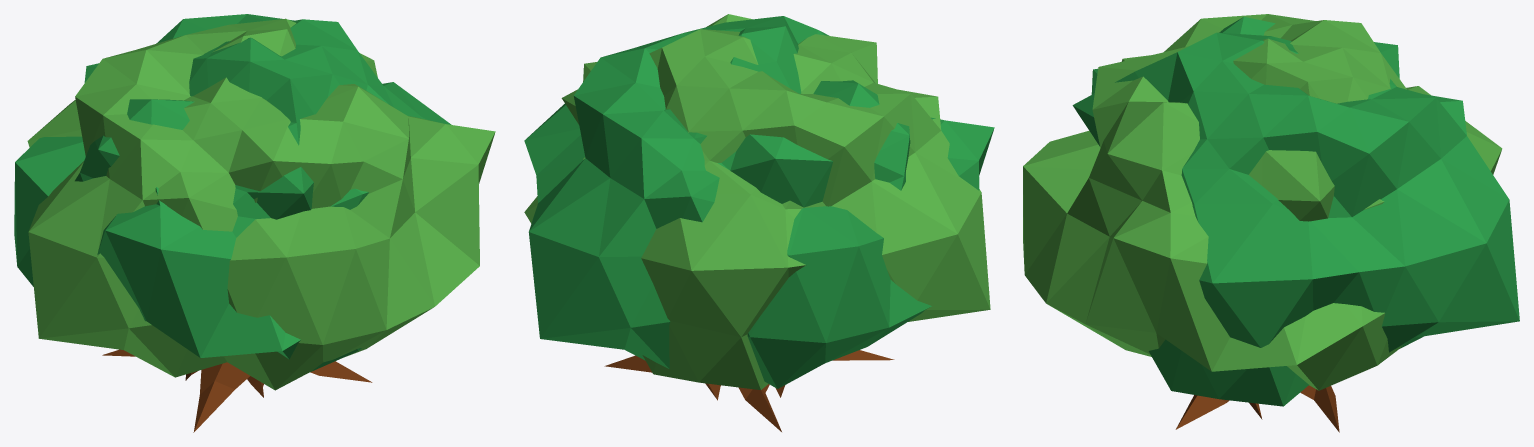
The model's file is bush.fbx.
3 views of the same model, side by side, from view 1: azimuth 30°, elevation 25°; view 2: azimuth 150°, elevation 25°; view 3: azimuth 270°, elevation 25° (orthographic). The views are drawn at different scales.
Visible parts, largest first — view 1: bush1, bush2, stomp; view 2: bush2, bush1, stomp; view 3: bush2, bush1, stomp.
Boxes of the visible parts, x1=… form: bush1: x1=27, y1=18, x2=495, y2=390; bush2: x1=14, y1=14, x2=451, y2=371; stomp: x1=102, y1=349, x2=372, y2=432; bush2: x1=524, y1=16, x2=994, y2=388; bush1: x1=524, y1=14, x2=990, y2=389; stomp: x1=604, y1=350, x2=894, y2=431; bush2: x1=1072, y1=17, x2=1519, y2=406; bush1: x1=1023, y1=14, x2=1502, y2=390; stomp: x1=1175, y1=385, x2=1339, y2=432.
Size of the model in its own units: 901 by 681 by 865.
